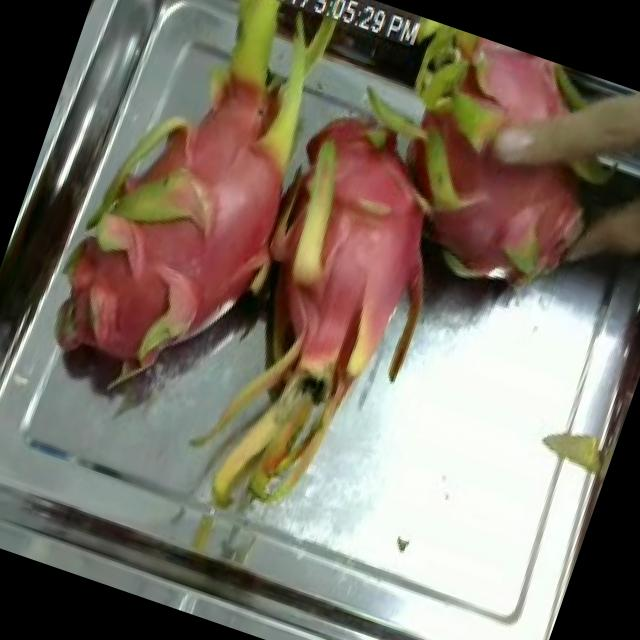Fruit: (533, 57, 640, 129)
